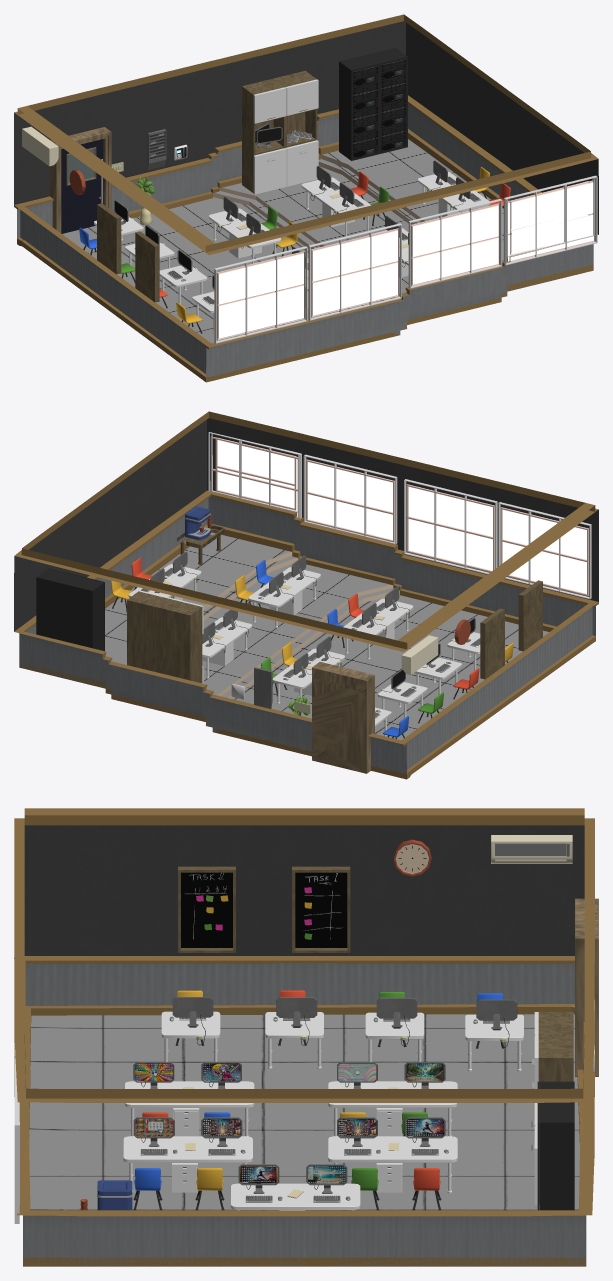
File: classroom-office.fbx
3 views of the same model, one above another, from view 1: azimuth 30°, elevation 25°; view 2: azimuth 150°, elevation 25°; view 3: azimuth 270°, elevation 25° (orthographic). The views are drawn at different scales.
Parts seen in each view (by area): view 1: Floor.011, Floor.008, Floor.009, Floor.006, Plane.181, Plane.001, Floor.005, Floor.004, Floor.002, Floor.003, Floor, Door (+15 smaller); view 2: Floor.008, Floor.009, Floor.011, Floor.006, Floor.002, Door, Floor, Floor.004, Plane.181, Floor.003, Floor.005, Plane.001 (+19 smaller); view 3: Floor.011, Floor.009, Floor.008, Floor.006, Floor.002, Floor, Plane.216, Plane.238, Plane.001, Plane.181, Plane.160, Plane.146 (+33 smaller).
Boxes of the visible parts, x1,y1,x2,y2 form: Floor.011: (14, 21, 598, 234); Floor.008: (17, 104, 593, 377); Floor.009: (62, 139, 503, 343); Floor.006: (14, 14, 598, 254); Plane.181: (242, 70, 318, 194); Plane.001: (339, 47, 407, 160); Floor.005: (216, 251, 304, 340); Floor.004: (311, 228, 398, 317); Floor.002: (17, 129, 593, 382); Floor.003: (411, 203, 499, 286); Floor: (14, 95, 598, 349); Door: (50, 127, 111, 233); Floor.008: (19, 496, 595, 773); Floor.009: (105, 532, 548, 740); Floor.011: (14, 418, 598, 631); Floor.006: (14, 411, 598, 651); Floor.002: (19, 524, 595, 779); Door: (312, 662, 374, 773); Floor: (14, 490, 598, 746); Floor.004: (406, 484, 494, 572); Plane.181: (127, 590, 203, 683); Floor.003: (306, 459, 394, 542); Floor.005: (500, 507, 588, 596); Plane.001: (36, 568, 104, 651); Floor.011: (24, 825, 584, 955); Floor.009: (29, 1014, 579, 1210); Floor.008: (23, 963, 586, 1266); Floor.006: (14, 808, 594, 1102); Floor.002: (23, 1004, 586, 1266); Floor: (14, 956, 594, 1216); Plane.216: (292, 866, 350, 952); Plane.238: (178, 866, 235, 952); Plane.001: (537, 1081, 574, 1210); Plane.181: (534, 1012, 573, 1204); Plane.160: (123, 1136, 252, 1162); Plane.146: (328, 1136, 457, 1162).
Size of the model in its own units: 1235 by 412 by 1071.
